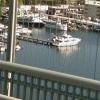Boat: (46, 23, 84, 51)
